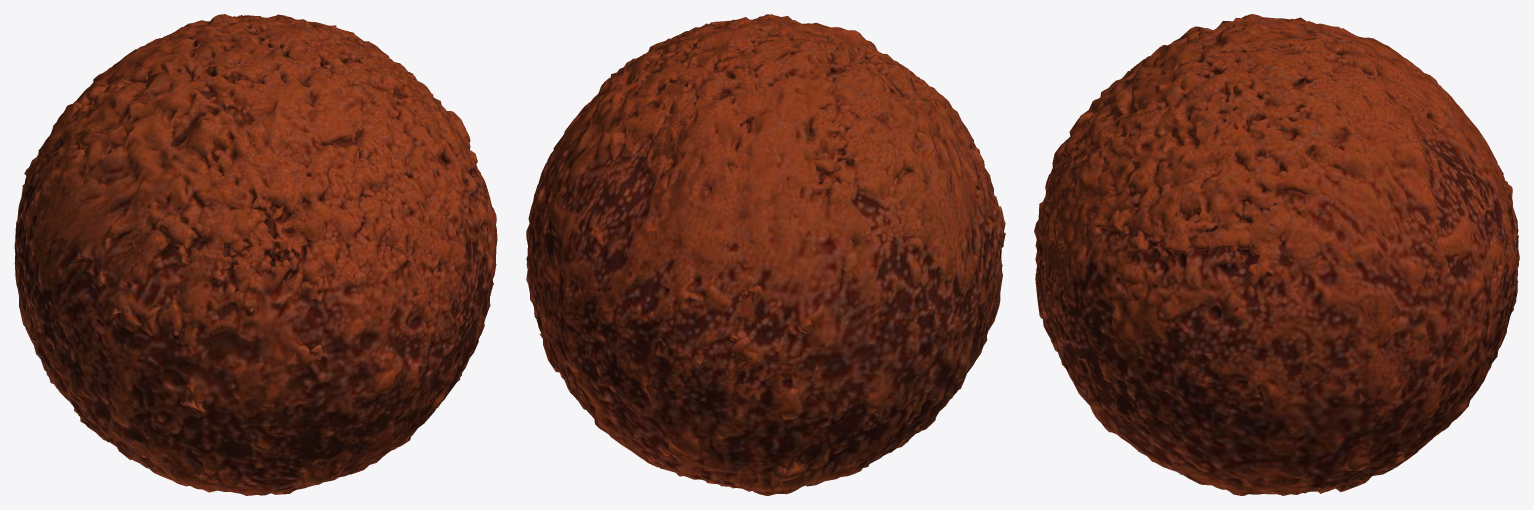
3 renders of one model, left to right at view 1: azimuth 30°, elevation 25°; view 2: azimuth 150°, elevation 25°; view 3: azimuth 270°, elevation 25°, orthographic.
Size of the model in its own units: 1.89 by 1.88 by 1.9.
1 material, 1 textured.
